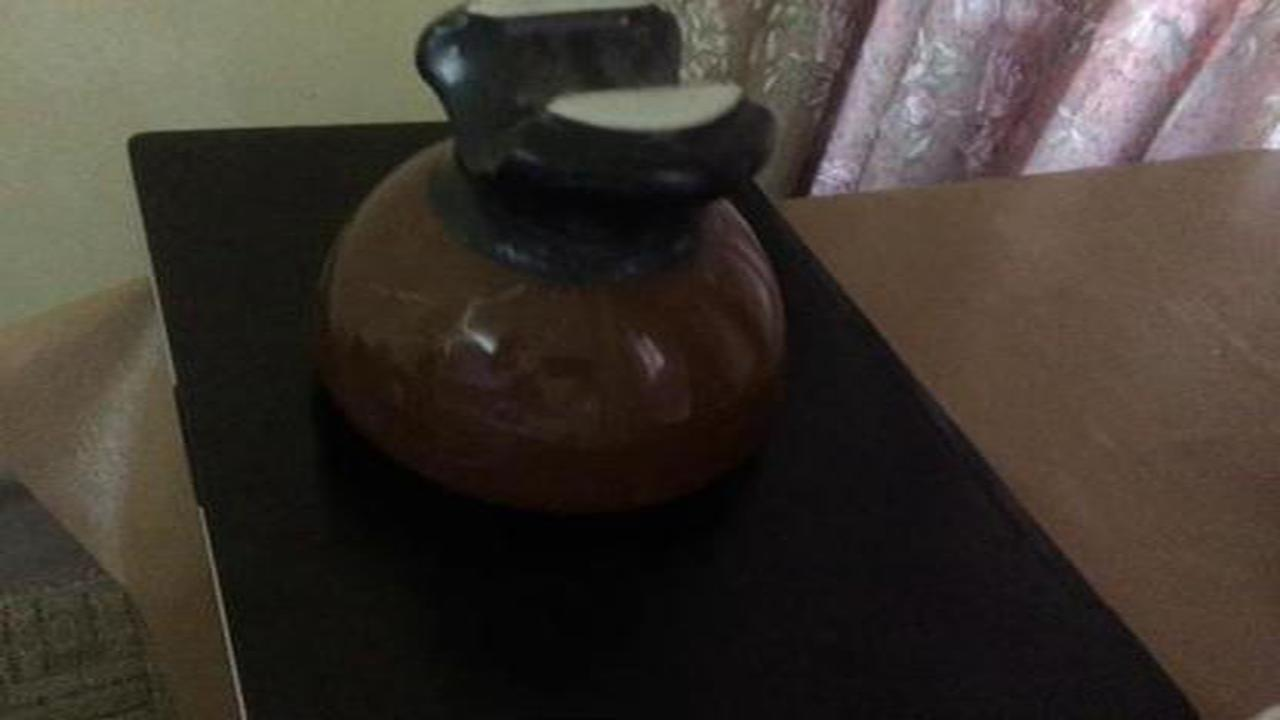insulator_pin: (302, 16, 804, 541)
